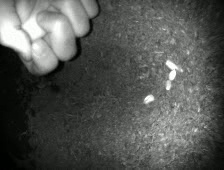corn: (140, 92, 156, 108), (166, 66, 180, 82), (164, 57, 178, 71), (163, 78, 174, 92), (174, 62, 185, 75)
